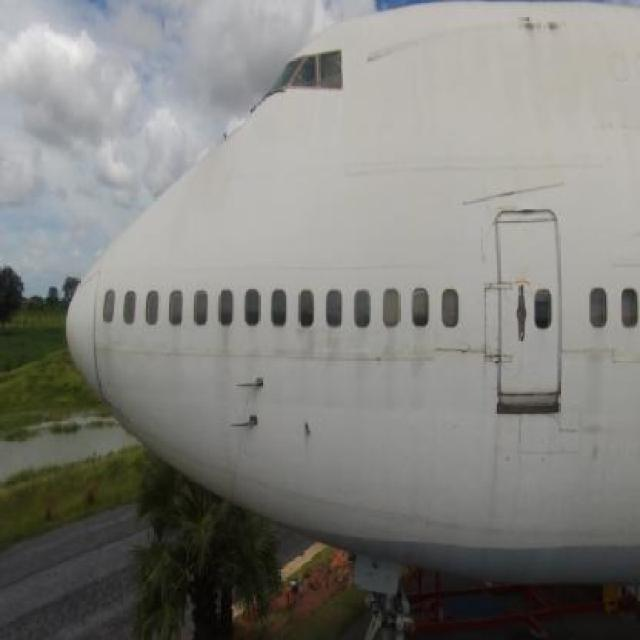Missing-Rivet: (483, 267, 502, 375)
Scartch: (456, 170, 566, 215), (368, 29, 423, 82), (507, 6, 576, 45), (427, 339, 482, 368)
